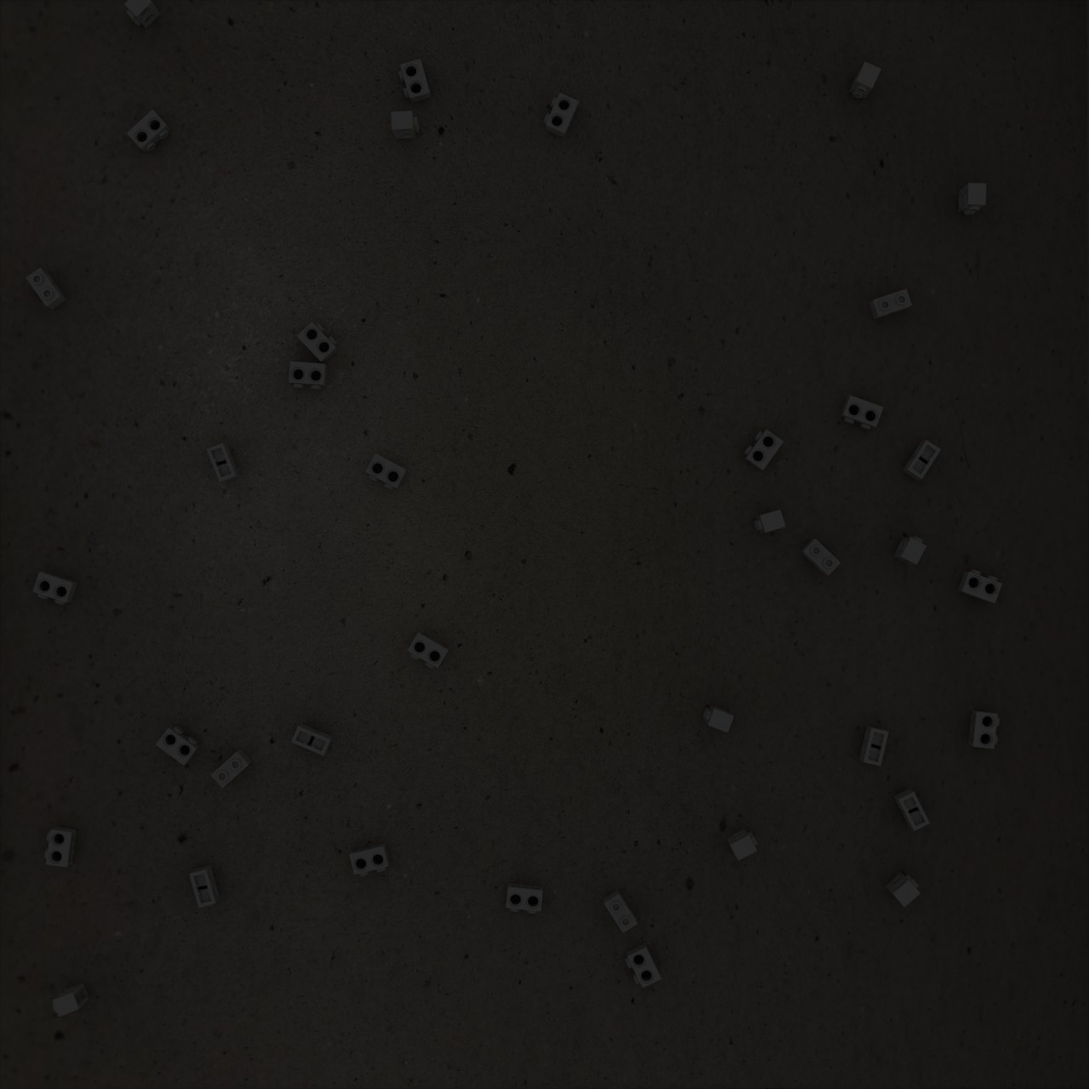lego: (126, 109, 171, 153), (296, 322, 338, 364), (26, 267, 67, 310), (156, 726, 200, 766), (744, 429, 784, 471), (210, 749, 253, 788), (625, 943, 662, 988), (407, 631, 450, 669), (543, 93, 579, 138), (893, 788, 930, 831), (365, 453, 408, 490), (902, 440, 941, 480), (800, 538, 841, 576), (840, 395, 884, 430), (603, 889, 638, 933), (957, 569, 1002, 603), (33, 571, 78, 605), (398, 59, 431, 103), (291, 723, 334, 756), (206, 443, 240, 483), (349, 843, 390, 876), (44, 826, 77, 867), (869, 289, 912, 320), (189, 865, 220, 908), (52, 982, 89, 1017), (885, 872, 921, 907), (968, 710, 1000, 749), (859, 725, 889, 766), (849, 61, 881, 99), (506, 883, 543, 914), (288, 361, 328, 389), (124, 0, 161, 29), (726, 828, 758, 861), (893, 536, 927, 565), (958, 183, 986, 215), (703, 705, 734, 733), (391, 111, 419, 139), (754, 509, 786, 533)
